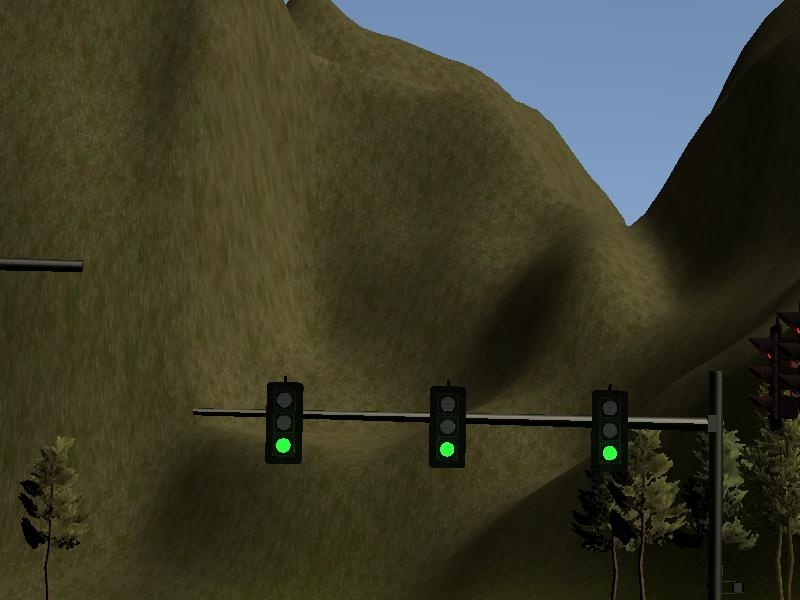green: (265, 381, 303, 464), (430, 387, 468, 470), (591, 391, 629, 474)
